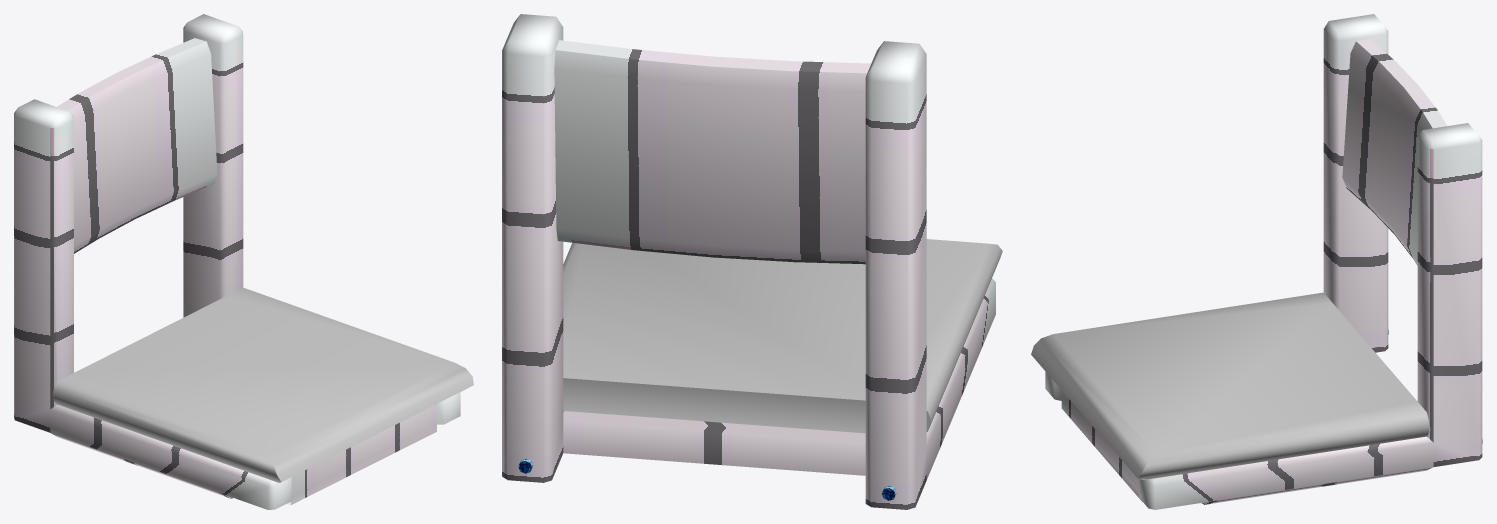
The picture shows the model from 3 angles, left to right: view 1: azimuth 30°, elevation 25°; view 2: azimuth 150°, elevation 25°; view 3: azimuth 270°, elevation 25°; orthographic projection. The views are drawn at different scales.
Visible parts, largest first — view 1: Joint_0_Object_0, Joint_0_Object_2; view 2: Joint_0_Object_0, Joint_0_Object_2; view 3: Joint_0_Object_0, Joint_0_Object_2.
Boxes of the visible parts, <box> form: Joint_0_Object_0: <box>14,14,460,509</box>; Joint_0_Object_2: <box>52,287,473,482</box>; Joint_0_Object_0: <box>502,14,995,509</box>; Joint_0_Object_2: <box>563,239,1002,433</box>; Joint_0_Object_0: <box>1045,14,1482,509</box>; Joint_0_Object_2: <box>1031,292,1429,479</box>.
Size of the model in its own units: 778 by 680 by 840.
